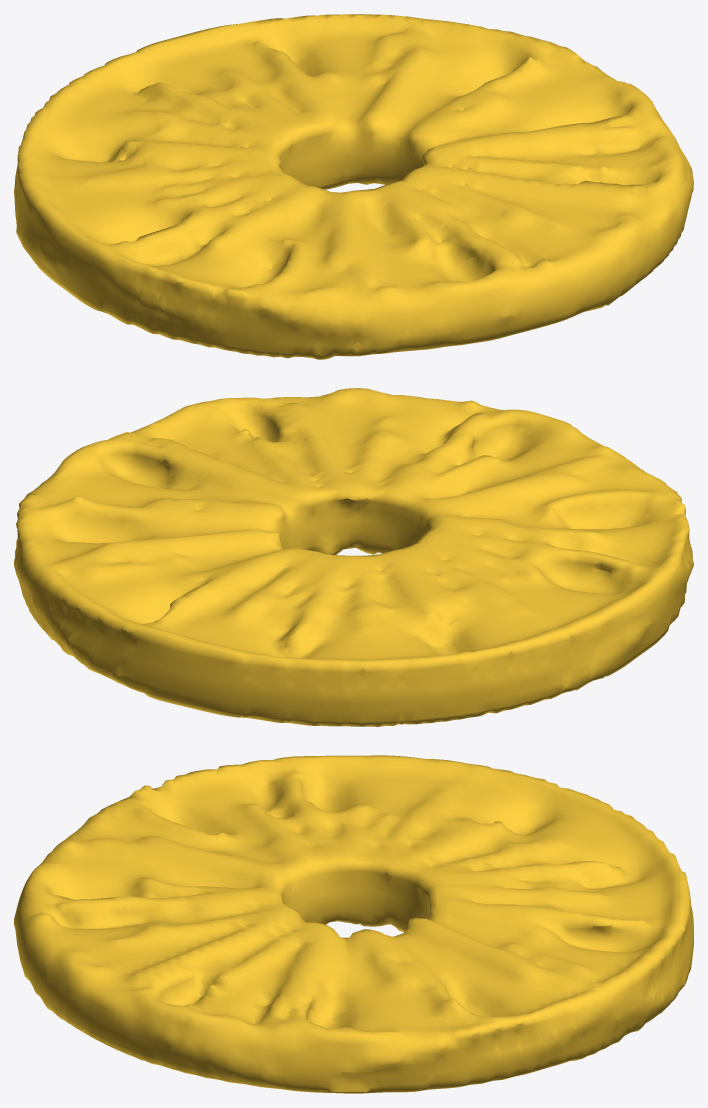
3 renders of one model, top to bottom at view 1: azimuth 30°, elevation 25°; view 2: azimuth 150°, elevation 25°; view 3: azimuth 270°, elevation 25°, orthographic.
Visible parts, largest first — view 1: 線稿; view 2: 線稿; view 3: 線稿.
Boxes of the visible parts, bbox=[...] form: 線稿: bbox=[14, 14, 693, 359]; 線稿: bbox=[14, 388, 693, 726]; 線稿: bbox=[14, 755, 693, 1093].
Size of the model in its own units: 1.99 by 0.2382 by 1.98.
